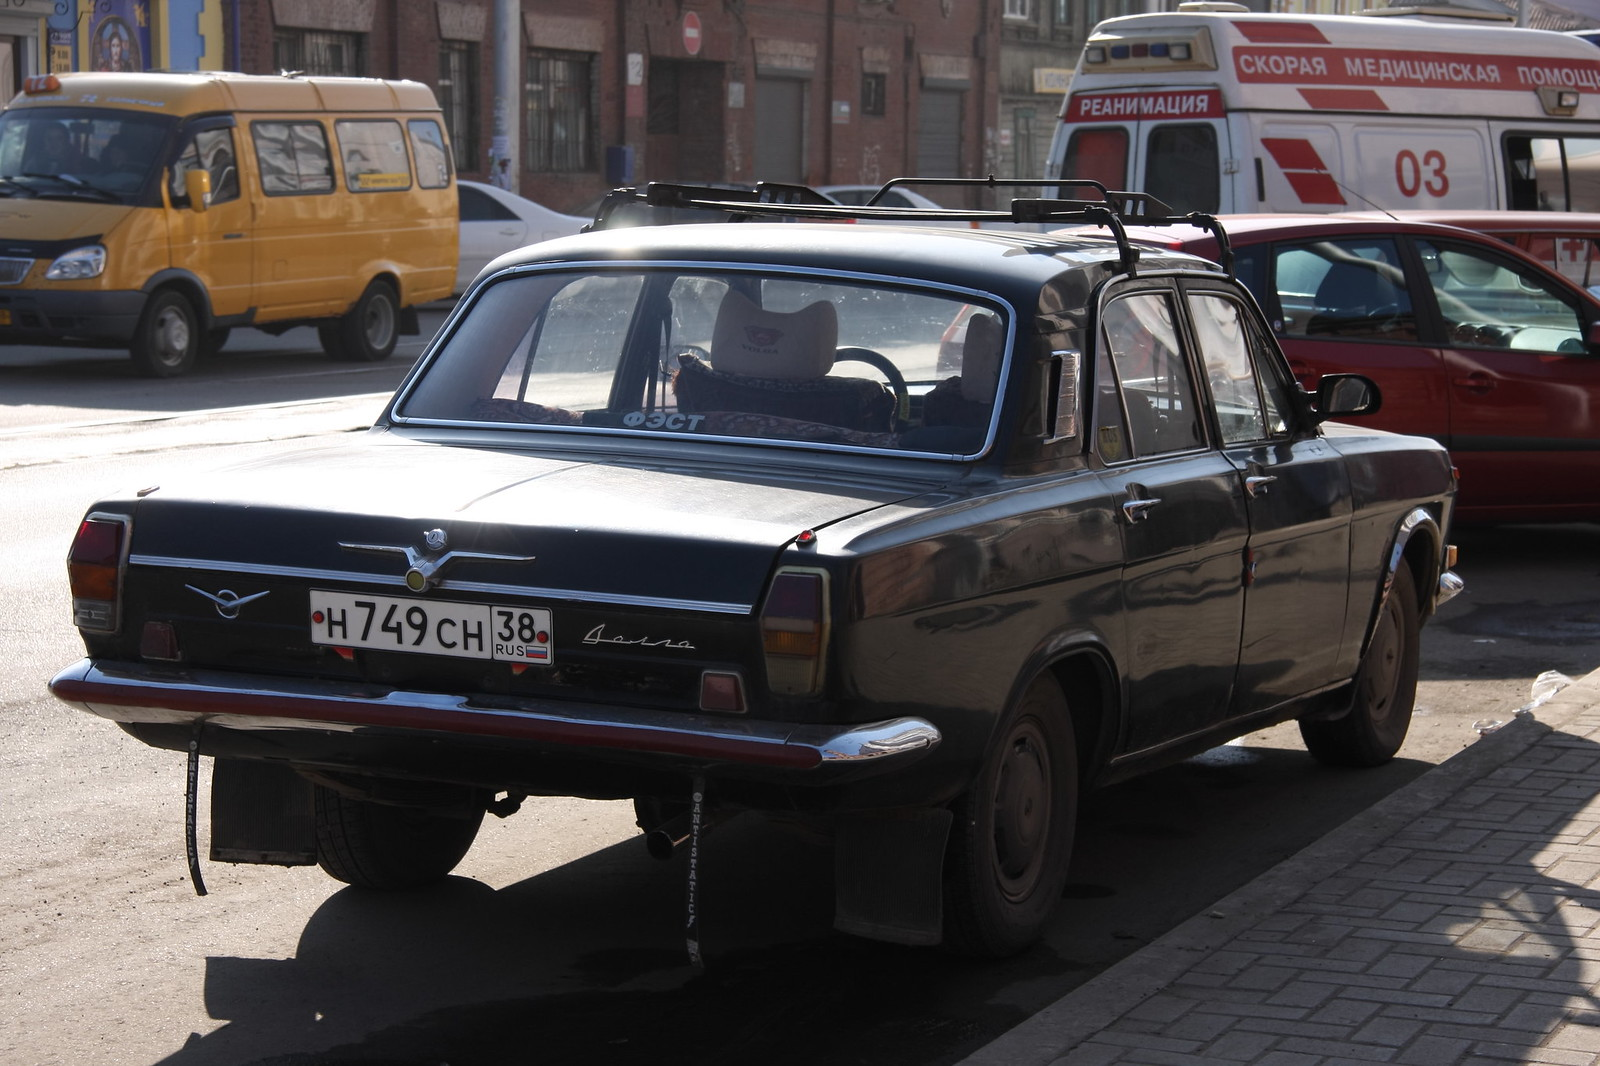car_rear: (66, 497, 845, 816)
plate: (306, 585, 556, 668)
